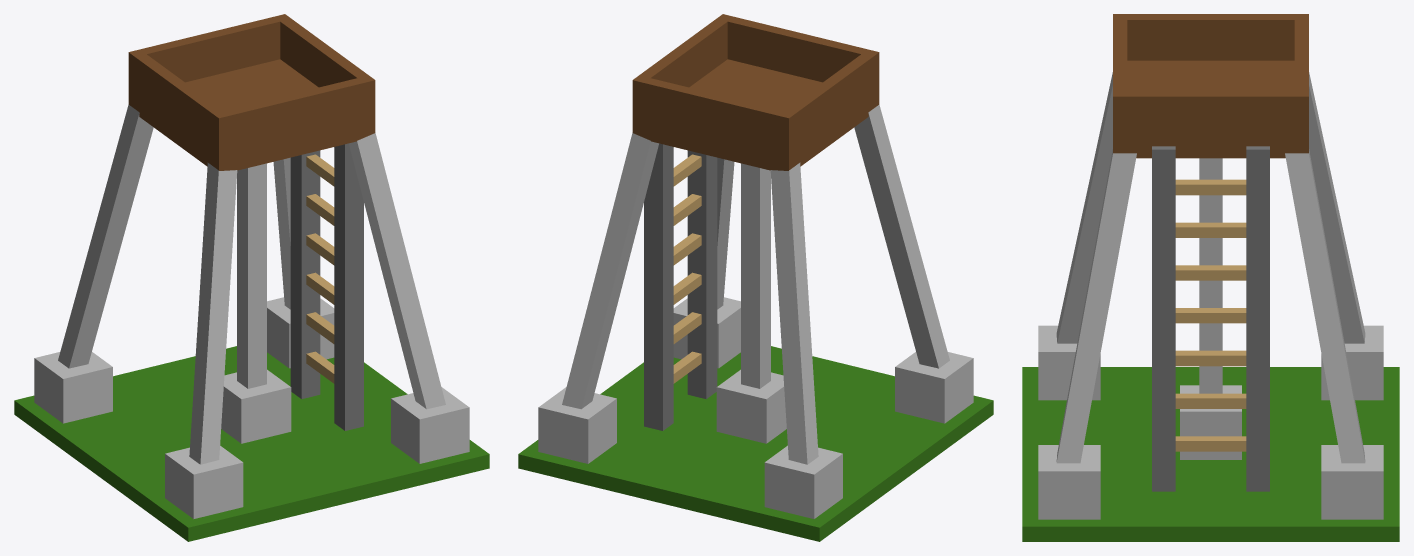
The model's file is lvl12.glb.
3 views of the same model, side by side, from view 1: azimuth 30°, elevation 25°; view 2: azimuth 150°, elevation 25°; view 3: azimuth 270°, elevation 25° (orthographic). The views are drawn at different scales.
Parts seen in each view (by area): view 1: Plane.011; view 2: Plane.011; view 3: Plane.011.
Part boxes in pixels (x1=…): Plane.011: x1=14, y1=14, x2=489, y2=541; Plane.011: x1=518, y1=14, x2=993, y2=541; Plane.011: x1=1022, y1=14, x2=1399, y2=541.
Size of the model in its own units: 4 by 4.76 by 4.
